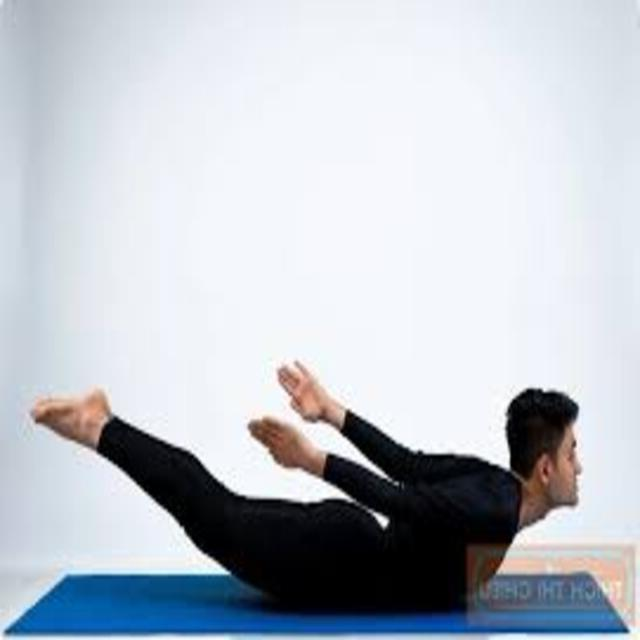Locust_Pose: (30, 359, 584, 626)
